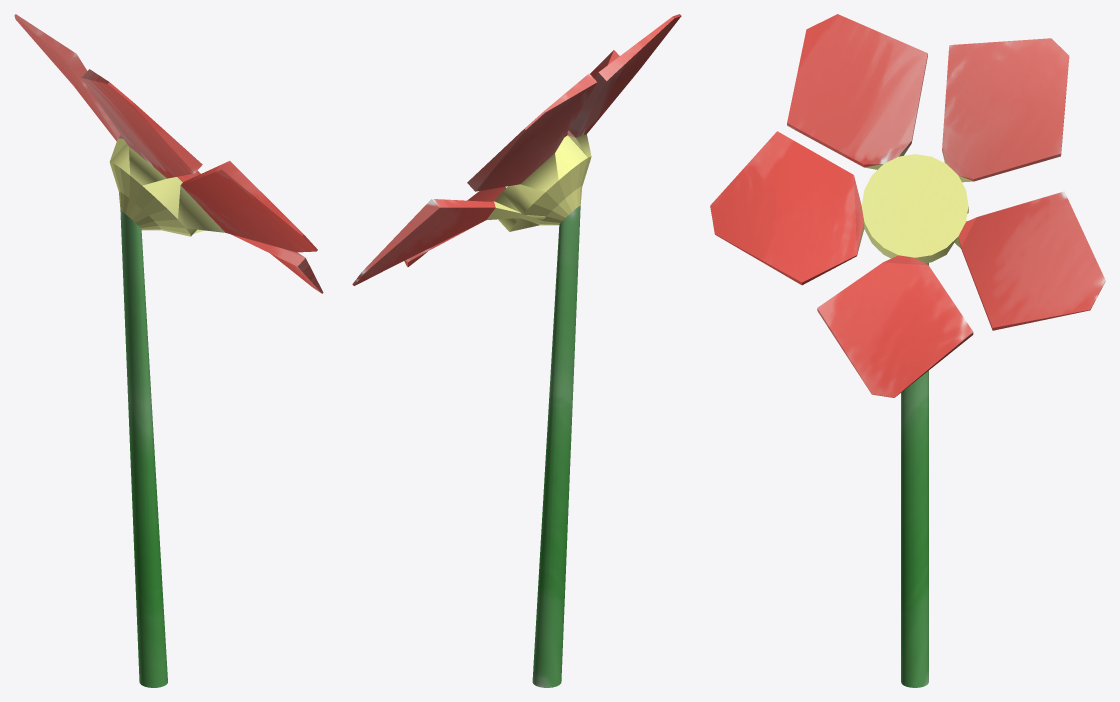
File: flower1.dae
3 views of the same model, side by side, from view 1: azimuth 30°, elevation 25°; view 2: azimuth 150°, elevation 25°; view 3: azimuth 270°, elevation 25° (orthographic). The views are drawn at different scales.
Visible parts, largest first — view 1: flowerpot1_polySurface2; view 2: flowerpot1_polySurface2; view 3: flowerpot1_polySurface2.
Part boxes in pixels (x1,y1,x2,y2): flowerpot1_polySurface2: (14, 14, 323, 687); flowerpot1_polySurface2: (352, 14, 681, 687); flowerpot1_polySurface2: (710, 14, 1105, 687).
Bounding box in the file's own units: 0.5086 × 1.34 × 0.7651.
